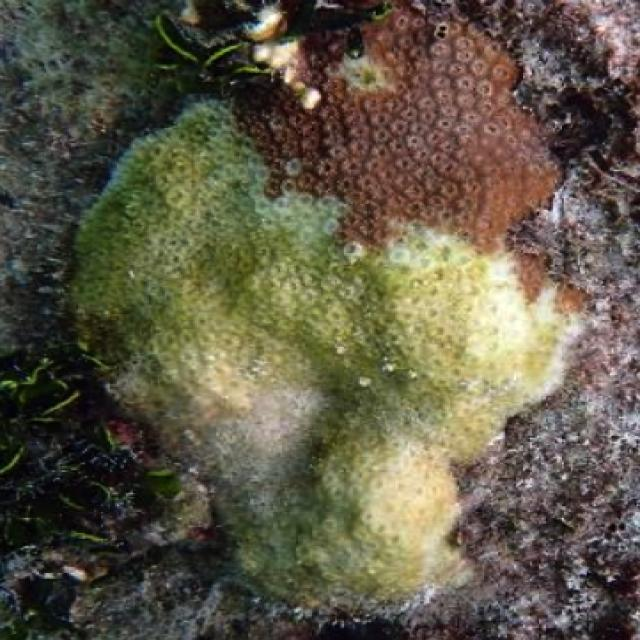Coral: (56, 0, 593, 624)
